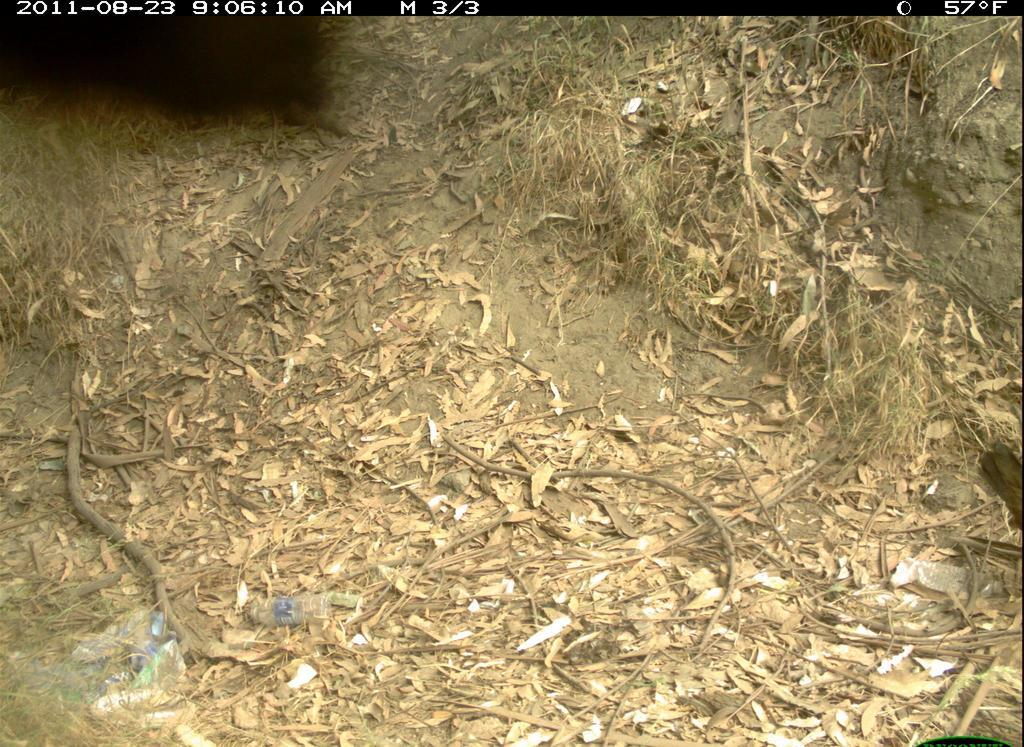bird: (967, 415, 1014, 521)
